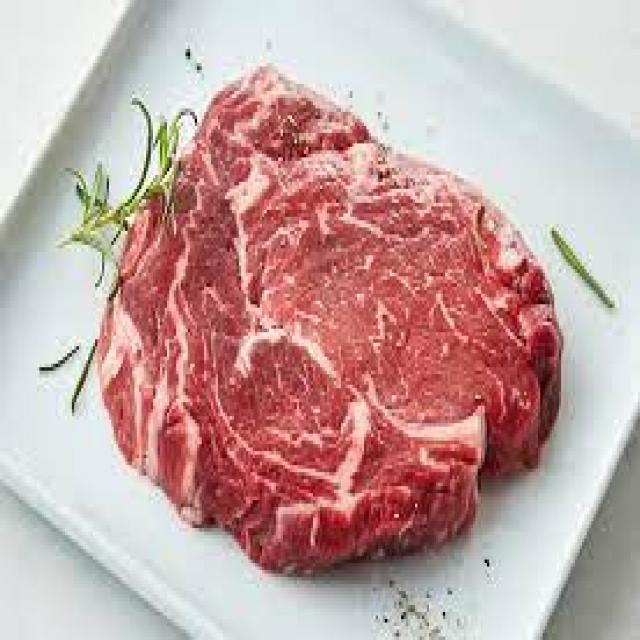beef: (97, 66, 566, 572)
